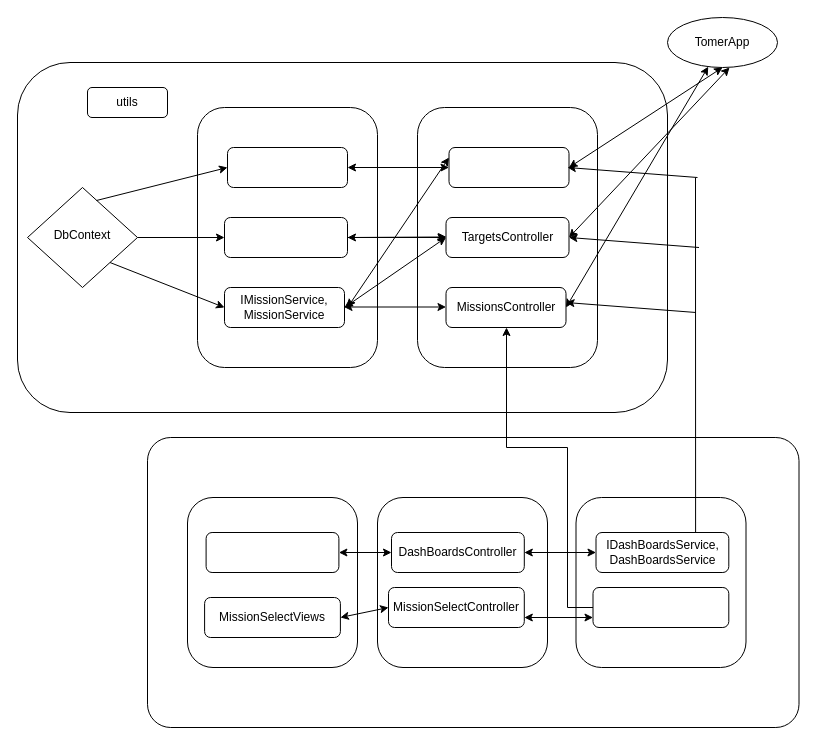
The diagram is 817 pixels wide and 745 high, and some of its shapes have lost their labels. Here are the shapes that lost their labels. From the top down, the centre of each, then its label:
At pixel 287 167: "IAgentsService, AgentsService".
At pixel 508 167: "AgentsController".
At pixel 286 237: "ITargetsService, TargetService".
At pixel 272 552: "DashBoardsViews".
At pixel 660 607: "IMissionSelectService, MissionSelectService".
